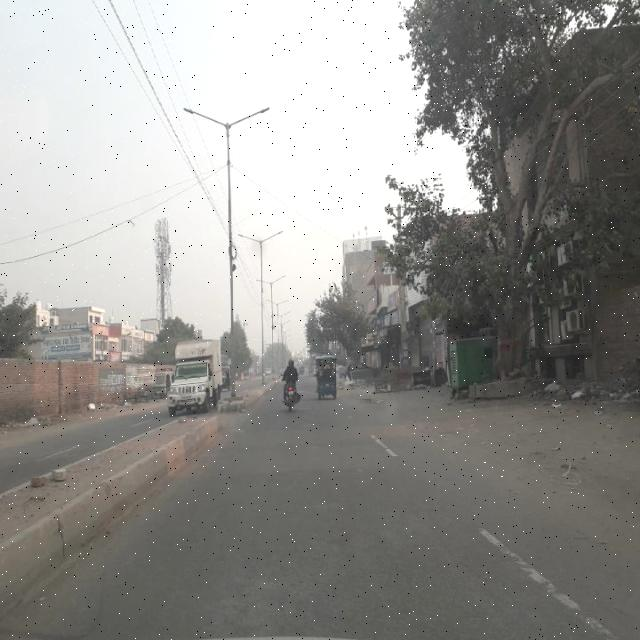D44: (476, 523, 622, 637), (369, 428, 405, 463)
